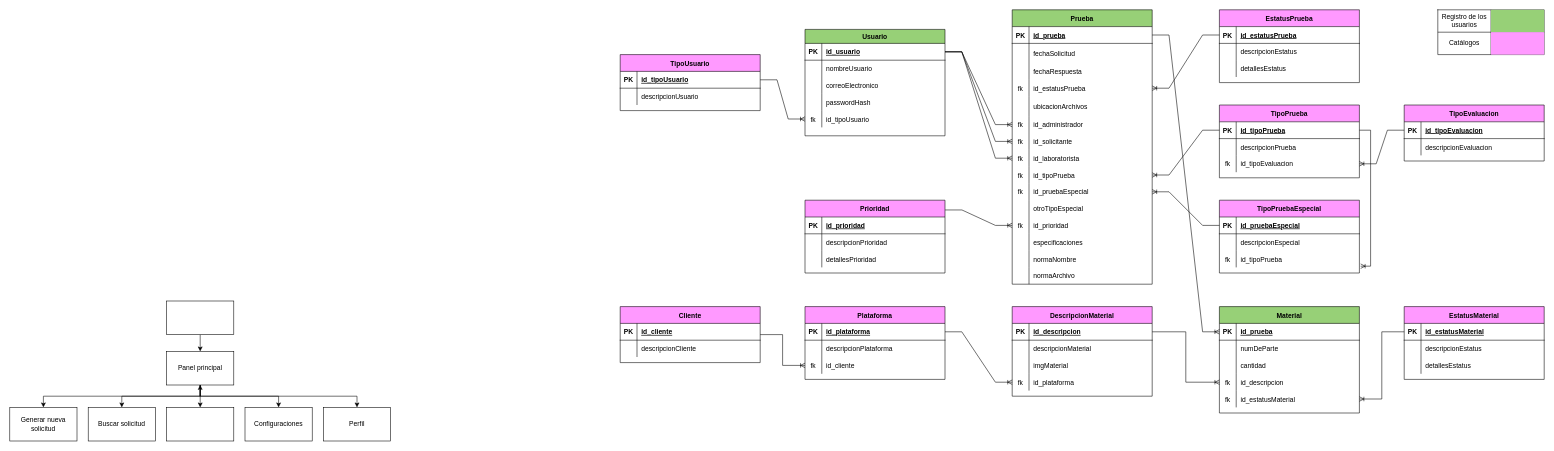
Image size: 1554x451. Some labels were removed from this diagram. Here are the shapes that lost their labels. From the top down, the centre of each, then its label:
(x=200, y=317): Inicio
(x=200, y=424): Generar reporte
